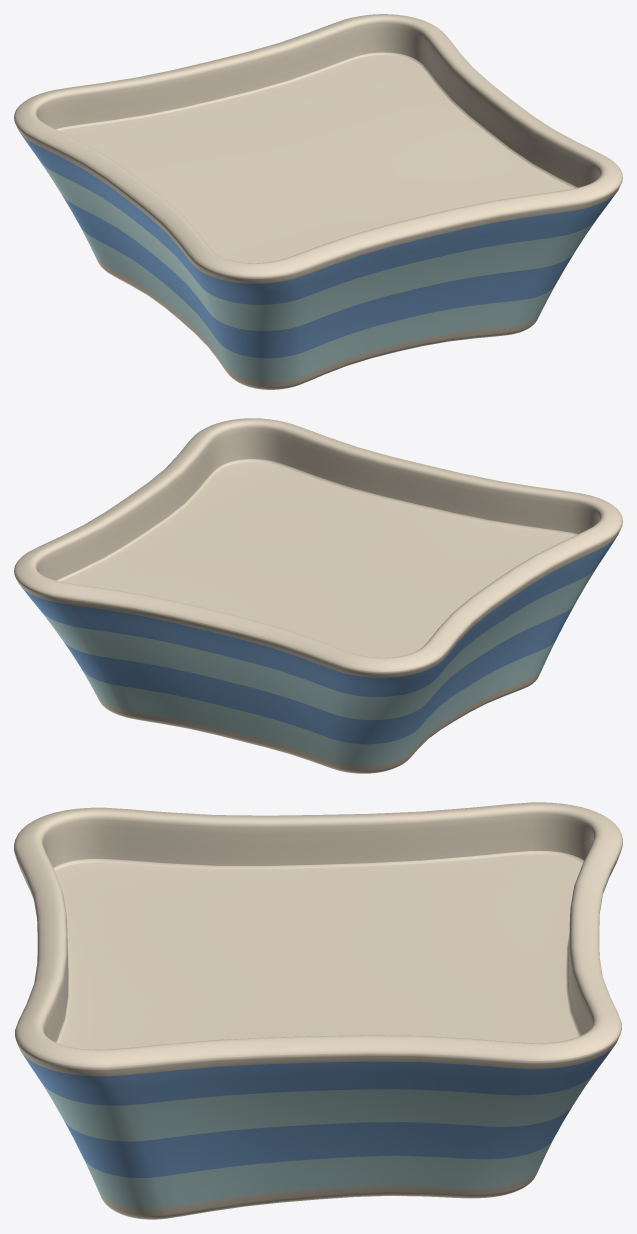
Rendered from SM_Building_06_Part_03.fbx.
3 renders of one model, top to bottom at view 1: azimuth 30°, elevation 25°; view 2: azimuth 150°, elevation 25°; view 3: azimuth 270°, elevation 25°, orthographic. The views are drawn at different scales.
Visible parts, largest first — view 1: SM_Building_06_Part_03; view 2: SM_Building_06_Part_03; view 3: SM_Building_06_Part_03.
Part boxes in pixels (<box>): SM_Building_06_Part_03: <box>14,14,622,389</box>; SM_Building_06_Part_03: <box>14,418,622,773</box>; SM_Building_06_Part_03: <box>14,802,622,1219</box>.
Bounding box in the file's own units: 8150 × 3083 × 8158.
